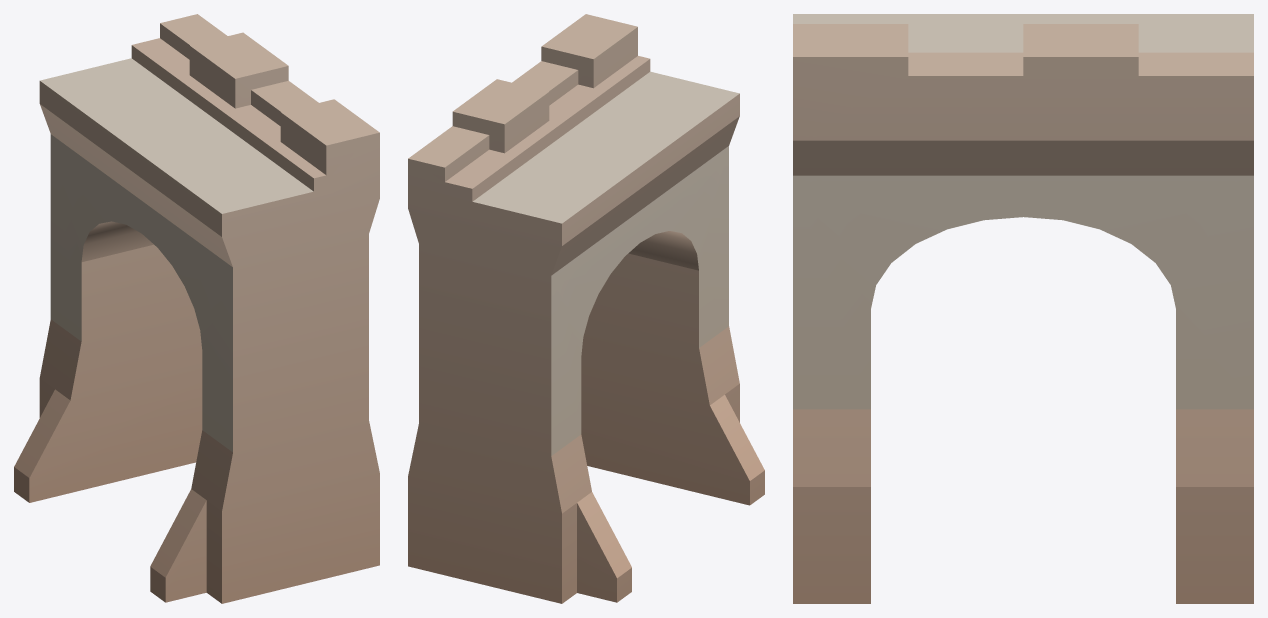
Rendered from wall-narrow-gate.glb.
3 views of the same model, side by side, from view 1: azimuth 30°, elevation 25°; view 2: azimuth 150°, elevation 25°; view 3: azimuth 270°, elevation 25° (orthographic). The views are drawn at different scales.
Visible parts, largest first — view 1: wall-narrow-gate; view 2: wall-narrow-gate; view 3: wall-narrow-gate.
Boxes of the visible parts, x1,y1,x2,y2 form: wall-narrow-gate: [14, 14, 379, 603]; wall-narrow-gate: [408, 14, 764, 603]; wall-narrow-gate: [793, 14, 1253, 603].
Bounding box in the file's own units: 0.63 × 1.31 × 1.
